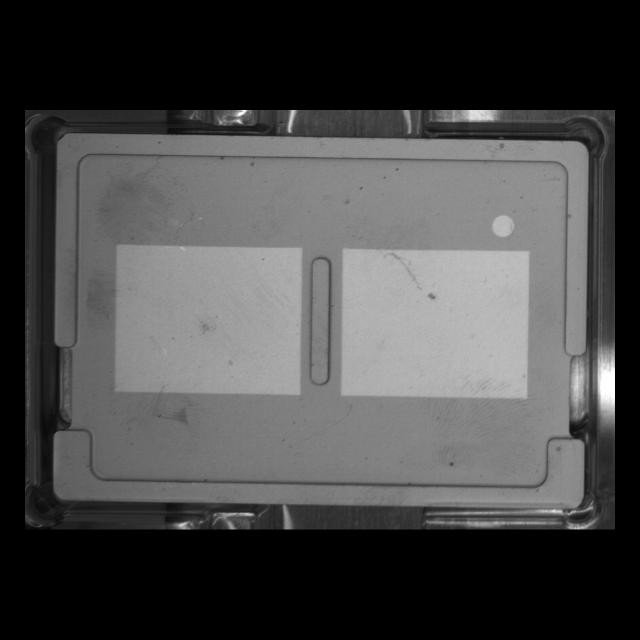door: (39, 416, 595, 522)
point: (482, 206, 525, 246)
